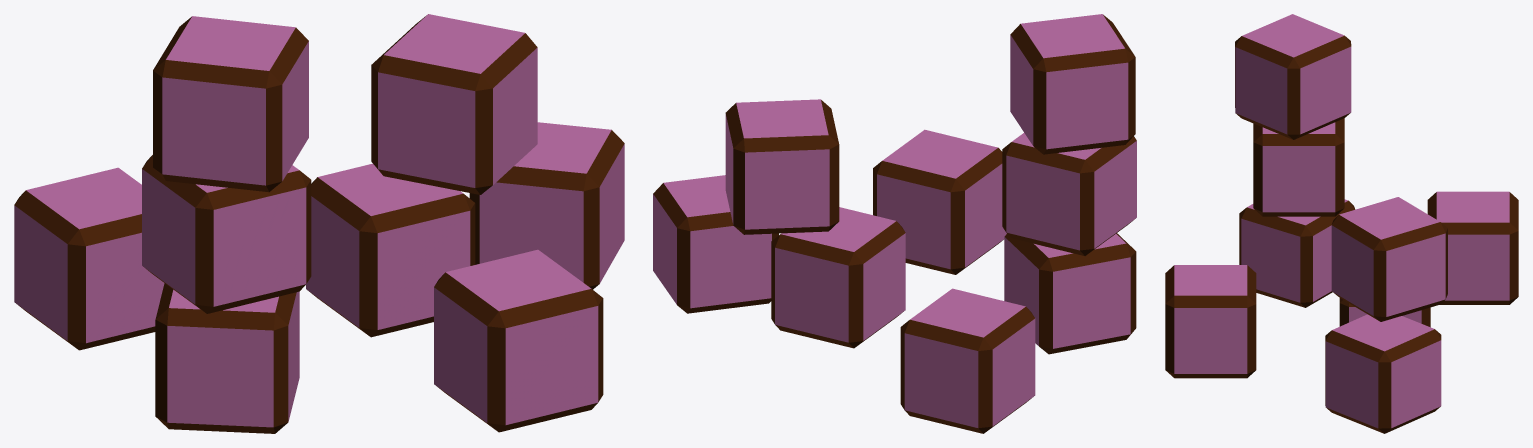
The model's file is Mainan 1.fbx.
3 views of the same model, side by side, from view 1: azimuth 30°, elevation 25°; view 2: azimuth 150°, elevation 25°; view 3: azimuth 270°, elevation 25° (orthographic). The views are drawn at different scales.
Parts seen in each view (by area): view 1: pCube15; view 2: pCube15; view 3: pCube15.
Part boxes in pixels (x1,y1,x2,y2): pCube15: (14, 14, 624, 433); pCube15: (653, 14, 1136, 433); pCube15: (1165, 14, 1518, 433).
Size of the model in its own units: 47.28 by 31.74 by 40.03.
